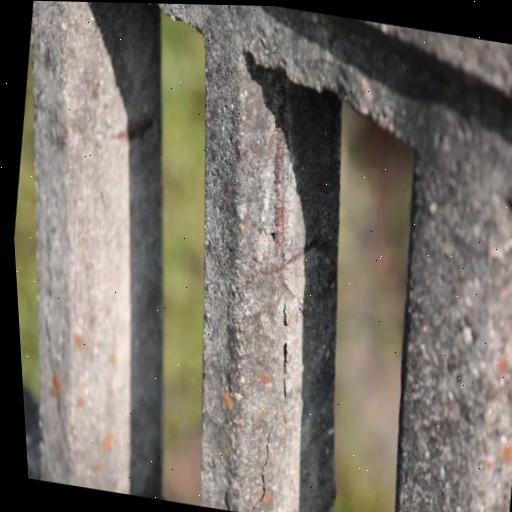exposed_rebar: (274, 114, 285, 254), (112, 119, 152, 140)
